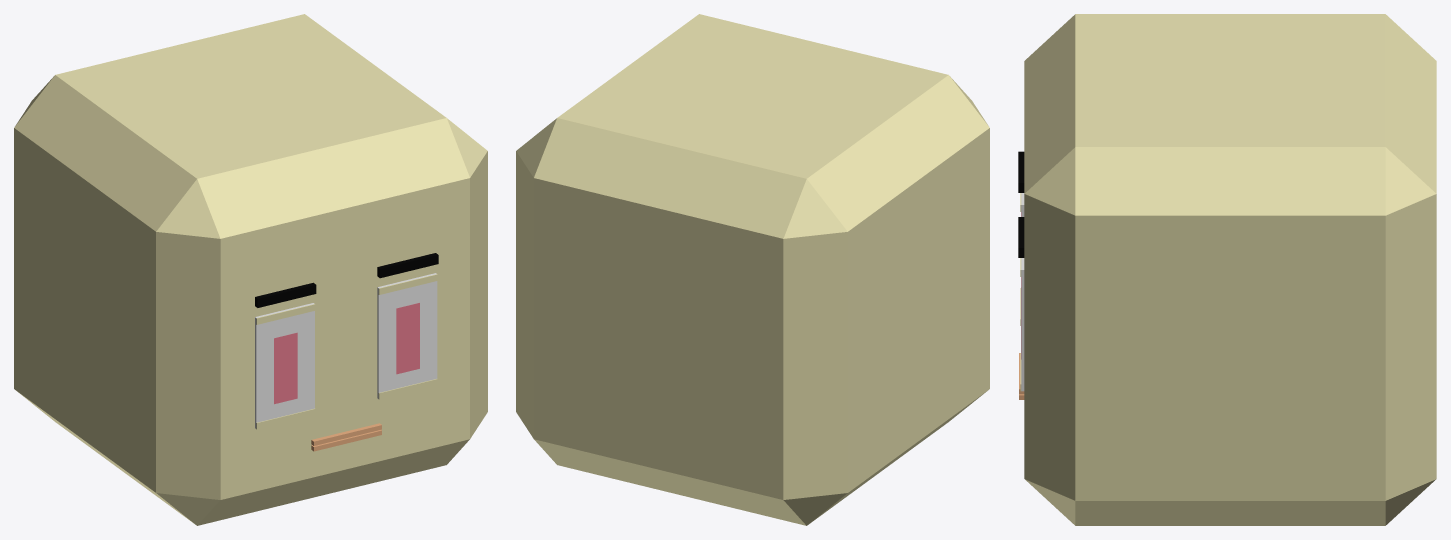
File: Billie.glb
3 renders of one model, left to right at view 1: azimuth 30°, elevation 25°; view 2: azimuth 150°, elevation 25°; view 3: azimuth 270°, elevation 25°, orthographic. The views are drawn at different scales.
Visible parts, largest first — view 1: _Robothead; view 2: _Robothead; view 3: _Robothead.
Part boxes in pixels (left/top/right/bottom): _Robothead: left=14, top=14, right=487, bottom=525; _Robothead: left=516, top=14, right=989, bottom=525; _Robothead: left=1018, top=14, right=1436, bottom=525.
Bounding box in the file's own units: 0.7 × 0.7 × 0.7.
